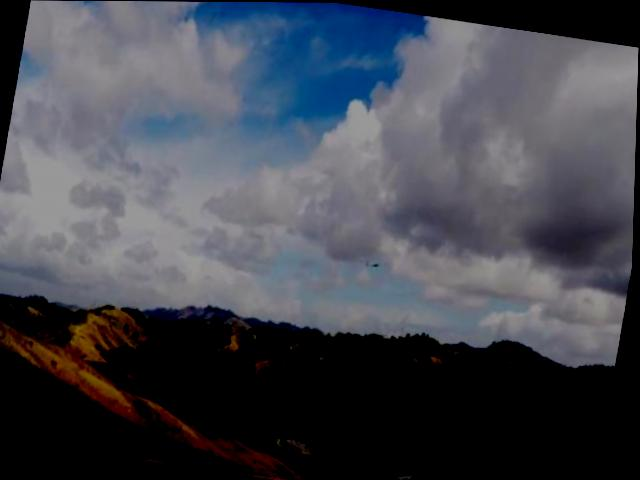iha: (361, 257, 392, 273)
